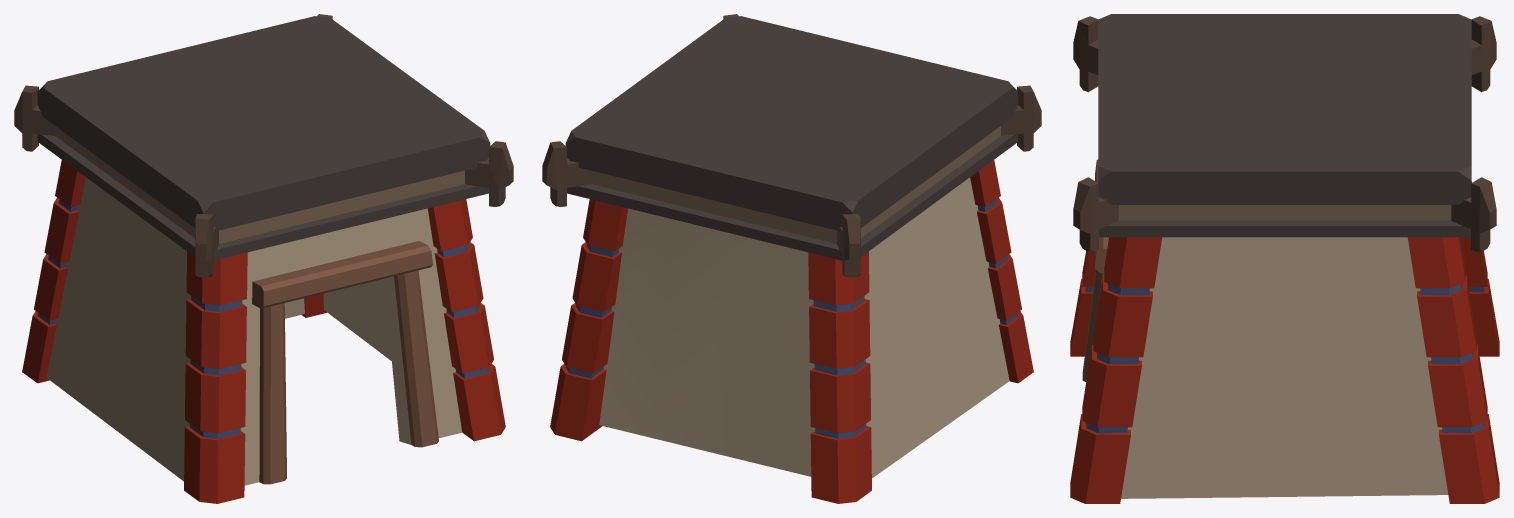
File: Room.fbx
The picture shows the model from 3 angles, left to right: view 1: azimuth 30°, elevation 25°; view 2: azimuth 150°, elevation 25°; view 3: azimuth 270°, elevation 25°; orthographic projection. The views are drawn at different scales.
Parts seen in each view (by area): view 1: Building_9; view 2: Building_9; view 3: Building_9.
Boxes of the visible parts, box(x1,y1,x2,y2) form: Building_9: box(14, 14, 513, 503); Building_9: box(542, 14, 1041, 503); Building_9: box(1070, 14, 1499, 503).
Bounding box in the file's own units: 547 × 478 × 569.
